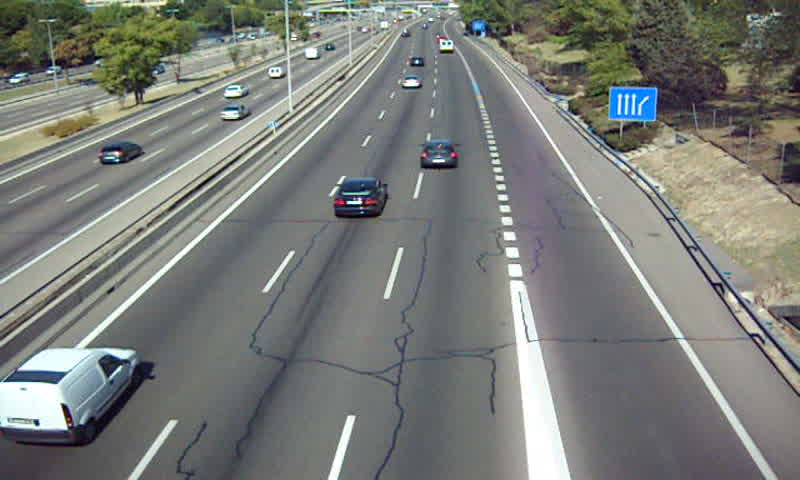car: (334, 179, 386, 217), (420, 142, 458, 168), (400, 75, 422, 90), (407, 56, 425, 70)
van: (1, 346, 138, 446)
